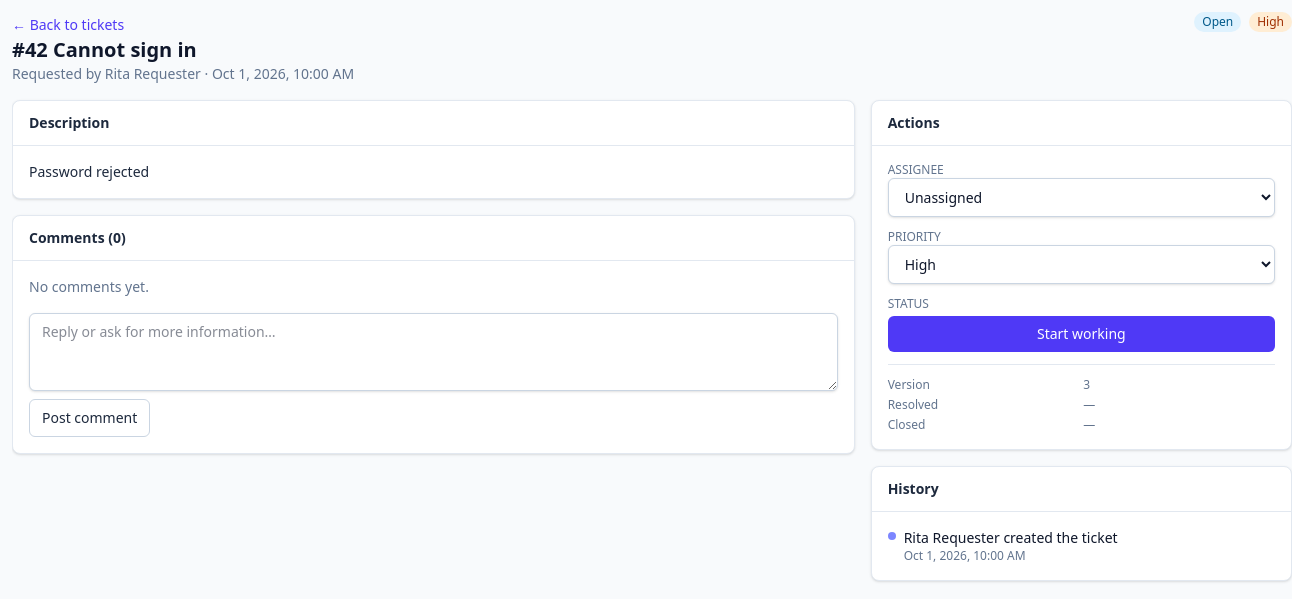
it: TicketDetailView › refuses to post an empty comment
Step 1. Click the button "Post comment" → x=90, y=418, box [29, 399, 150, 437]
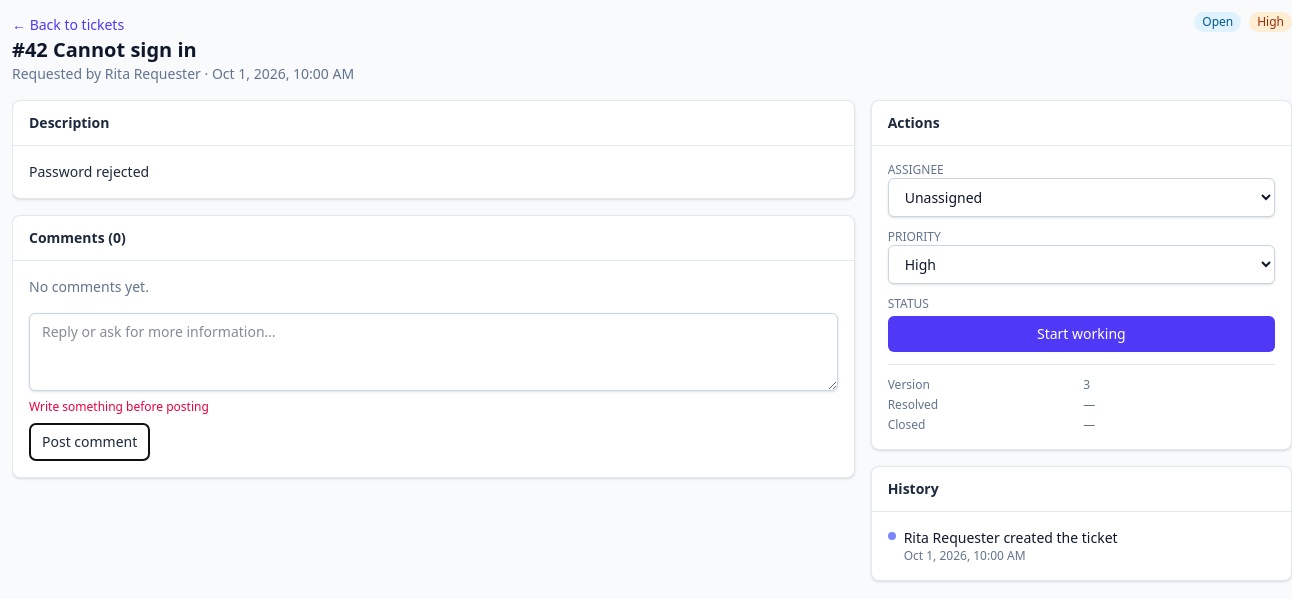
Check: the text "Write something before posting" is shown, box [29, 398, 209, 415]
